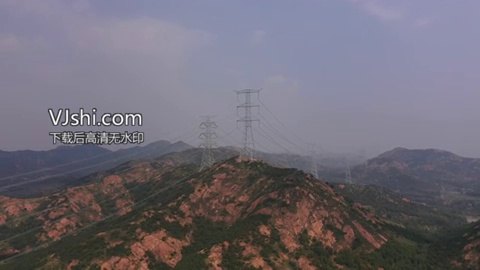tower_body: (229, 83, 270, 164), (197, 110, 219, 173)
tower_foot: (238, 146, 258, 160)
tower_head: (232, 85, 263, 98)
